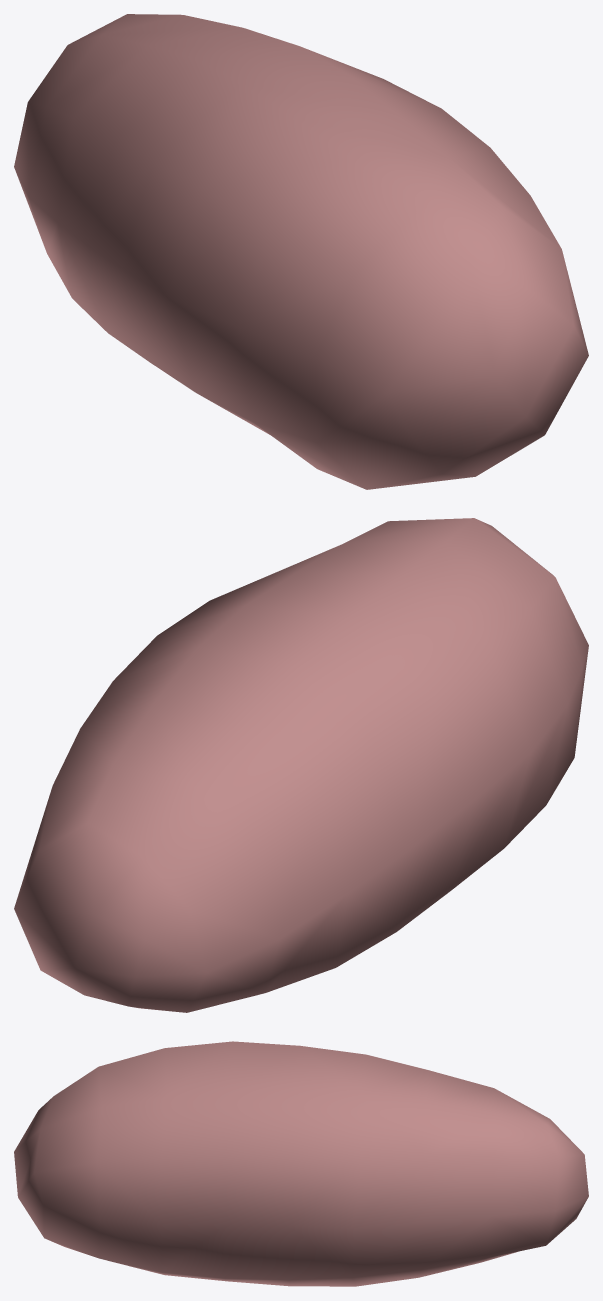
The model's file is SM_RocksRound_01.fbx.
3 views of the same model, one above another, from view 1: azimuth 30°, elevation 25°; view 2: azimuth 150°, elevation 25°; view 3: azimuth 270°, elevation 25° (orthographic). The views are drawn at different scales.
Parts seen in each view (by area): view 1: SM_RocksRound_01; view 2: SM_RocksRound_01; view 3: SM_RocksRound_01.
Part boxes in pixels (x1,y1,x2,y2): SM_RocksRound_01: (14,14,588,489); SM_RocksRound_01: (14,518,588,1012); SM_RocksRound_01: (14,1041,588,1286).
Size of the model in its own units: 118 by 108 by 261.
